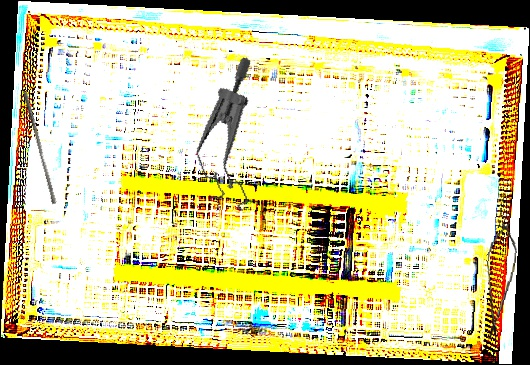Micro Scissor: (479, 219, 520, 343)
Pusher: (18, 90, 61, 205)
Speculum: (168, 54, 298, 222)
